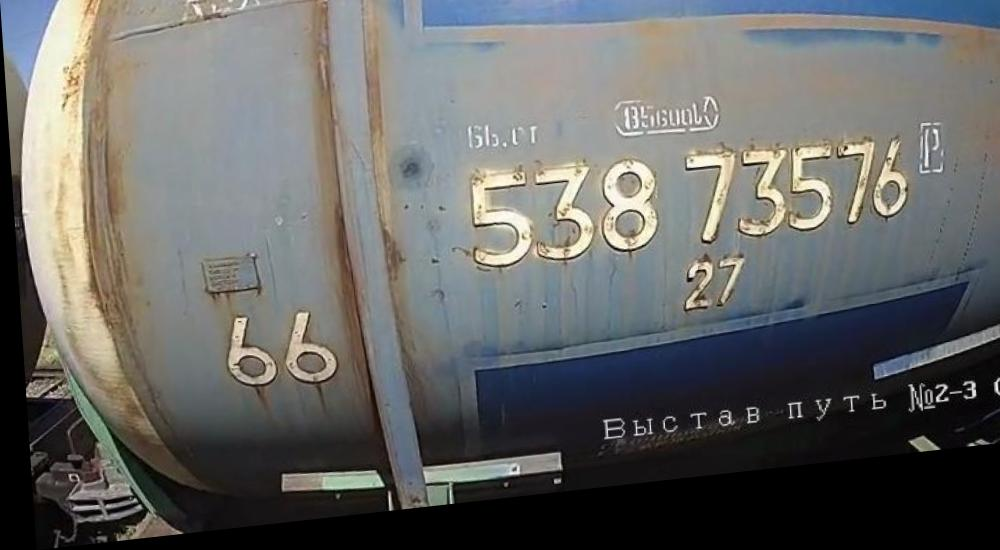Wagon-number: (456, 142, 912, 284)
